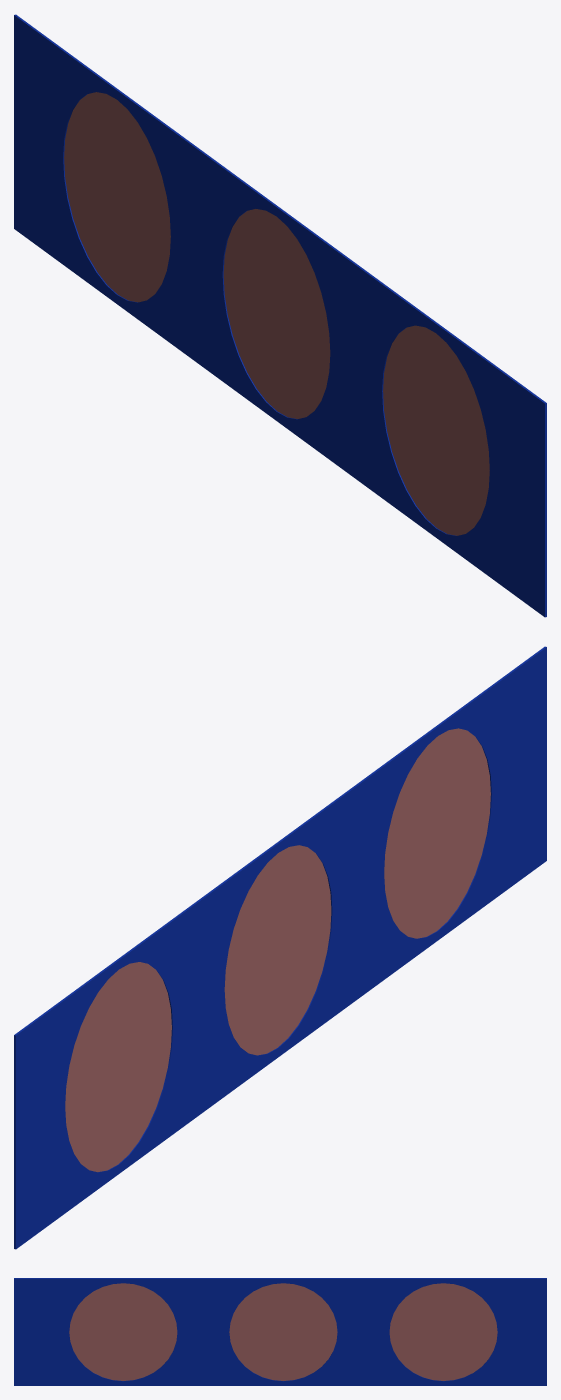
The model's file is 10x45 3 circles.FBX.
The picture shows the model from 3 angles, top to bottom: view 1: azimuth 30°, elevation 25°; view 2: azimuth 150°, elevation 25°; view 3: azimuth 270°, elevation 25°; orthographic projection. The views are drawn at different scales.
Visible parts, largest first — view 1: Box012; view 2: Box012; view 3: Box012.
Part boxes in pixels (bbox=[...]): Box012: bbox=[14, 14, 546, 617]; Box012: bbox=[14, 646, 546, 1249]; Box012: bbox=[14, 1278, 546, 1385].
Bounding box in the file's own units: 0.1 × 10 × 45.
